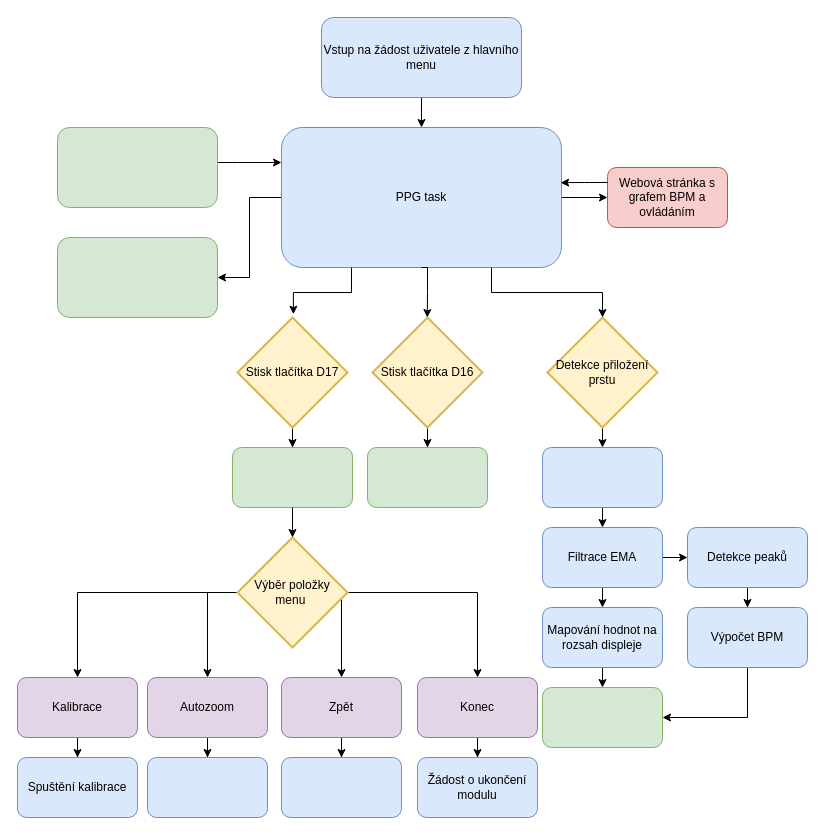
Image size: 825x835. Some labels were removed from this diagram. The shapes that lost their labels are listed below. From the top down, each one's centre as x and y in pixels, then its label:
At [137,167]: "Ovládání tlačítky a dotykovým senzorem k změně hodnot".
At [137,277]: "Aktualizace údajů na OLED displeji".
At [292,477]: "Vykreslení nabídky menu na OLED displej".
At [427,477]: "Přepnutí LED na červenou/infračervenou".
At [602,477]: "Začátek snímání PPG signálu".
At [602,717]: "Zobrazení křivky a BPM na OLED displeji".
At [207,787]: "Přepnutí mezi automatickým mapováním hodnot a nebo fixním".
At [341,787]: "Návrat do měření".
